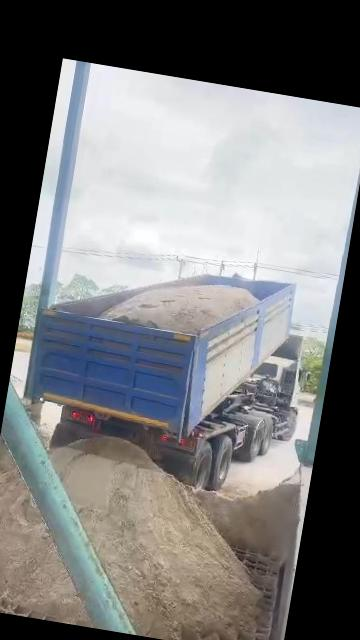sand: (51, 438, 258, 640), (0, 466, 90, 627), (195, 481, 299, 560), (100, 285, 257, 333), (0, 436, 12, 472), (33, 422, 49, 447)
